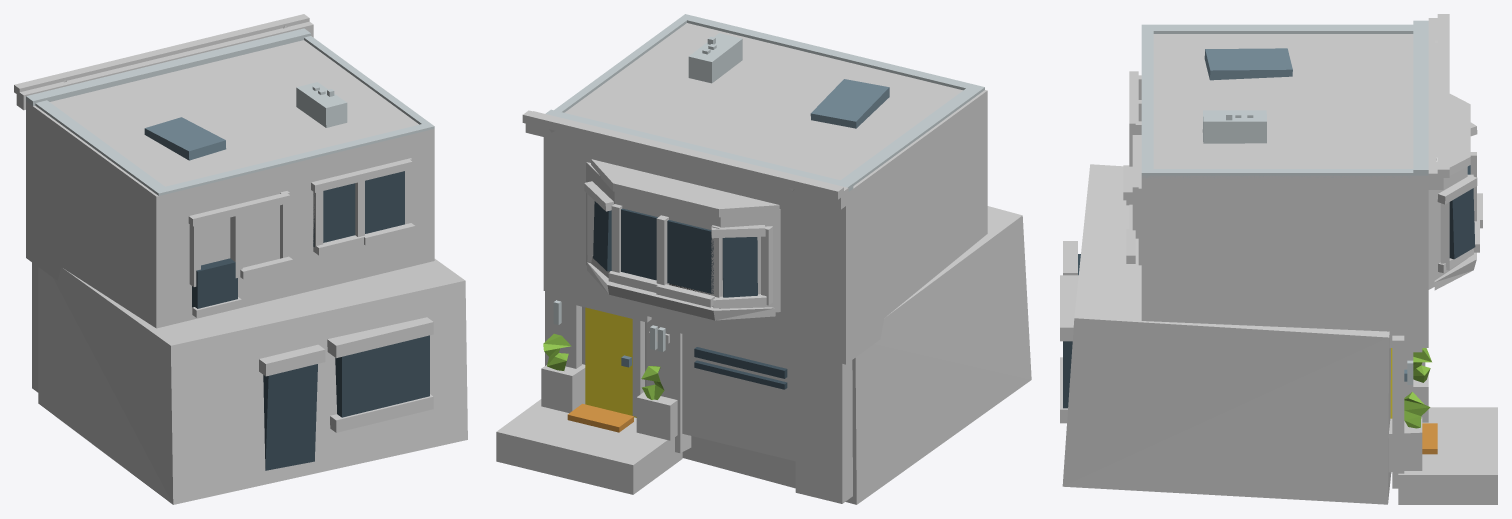
File: House_var1.fbx
3 views of the same model, side by side, from view 1: azimuth 30°, elevation 25°; view 2: azimuth 150°, elevation 25°; view 3: azimuth 270°, elevation 25° (orthographic). The views are drawn at different scales.
Parts seen in each view (by area): view 1: House; view 2: House; view 3: House.
Boxes of the visible parts, x1=… form: House: x1=14, y1=14, x2=467, y2=504; House: x1=496, y1=14, x2=1031, y2=504; House: x1=1060, y1=14, x2=1497, y2=504.
Size of the model in its own units: 1.27 by 1.28 by 1.45.
